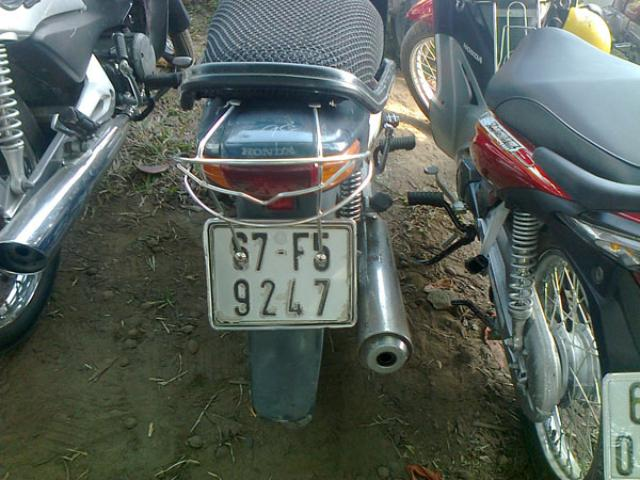plate: (208, 220, 354, 322)
